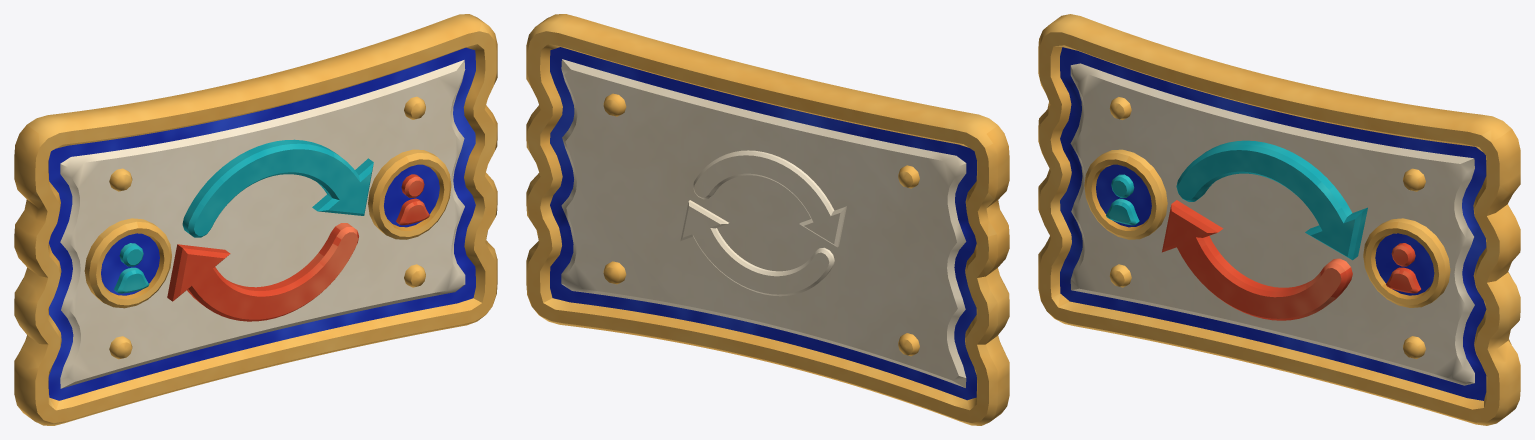
File: SwapTicket_v003.fbx
The picture shows the model from 3 angles, left to right: view 1: azimuth 30°, elevation 25°; view 2: azimuth 150°, elevation 25°; view 3: azimuth 330°, elevation 25°; orthographic projection.
Parts seen in each view (by area): view 1: SwapTicket; view 2: SwapTicket; view 3: SwapTicket.
Boxes of the visible parts, x1,y1,x2,y2 form: SwapTicket: [14, 14, 497, 425]; SwapTicket: [526, 14, 1009, 425]; SwapTicket: [1038, 14, 1520, 425].
Size of the model in its own units: 1.11 by 0.6751 by 0.1275.
1 material, 1 textured.
